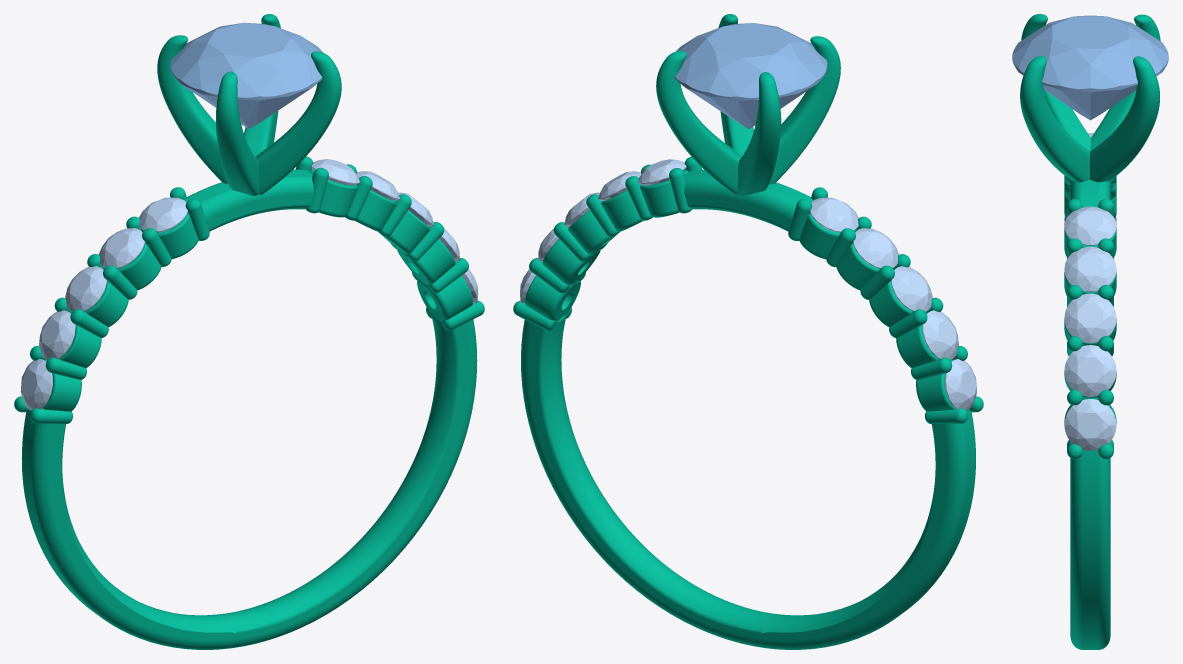
3 views of the same model, side by side, from view 1: azimuth 30°, elevation 25°; view 2: azimuth 150°, elevation 25°; view 3: azimuth 270°, elevation 25° (orthographic).
Parts seen in each view (by area): view 1: side stone ring(render).3dm, Diamond_Round (×7); view 2: side stone ring(render).3dm, Diamond_Round (×7); view 3: side stone ring(render).3dm, Diamond_Round (×6).
Boxes of the visible parts, x1,y1,x2,y2 form: side stone ring(render).3dm: (14, 14, 484, 649); Diamond_Round (×7): (20, 22, 359, 410); side stone ring(render).3dm: (513, 14, 983, 649); Diamond_Round (×7): (638, 23, 976, 410); side stone ring(render).3dm: (1020, 14, 1160, 649); Diamond_Round (×6): (1012, 15, 1168, 450).
Bounding box in the file's own units: 2.44 × 3.09 × 0.7362.
